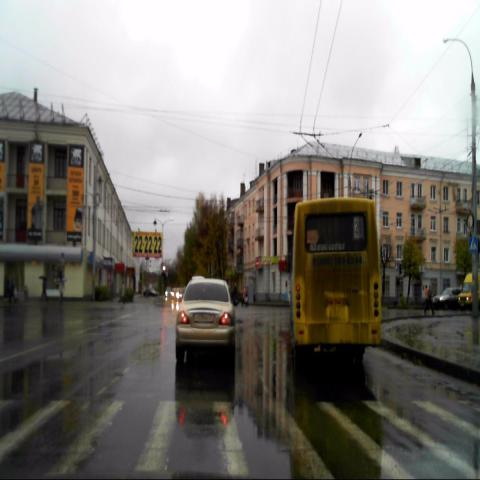5_19_1: (469, 237, 477, 252)
